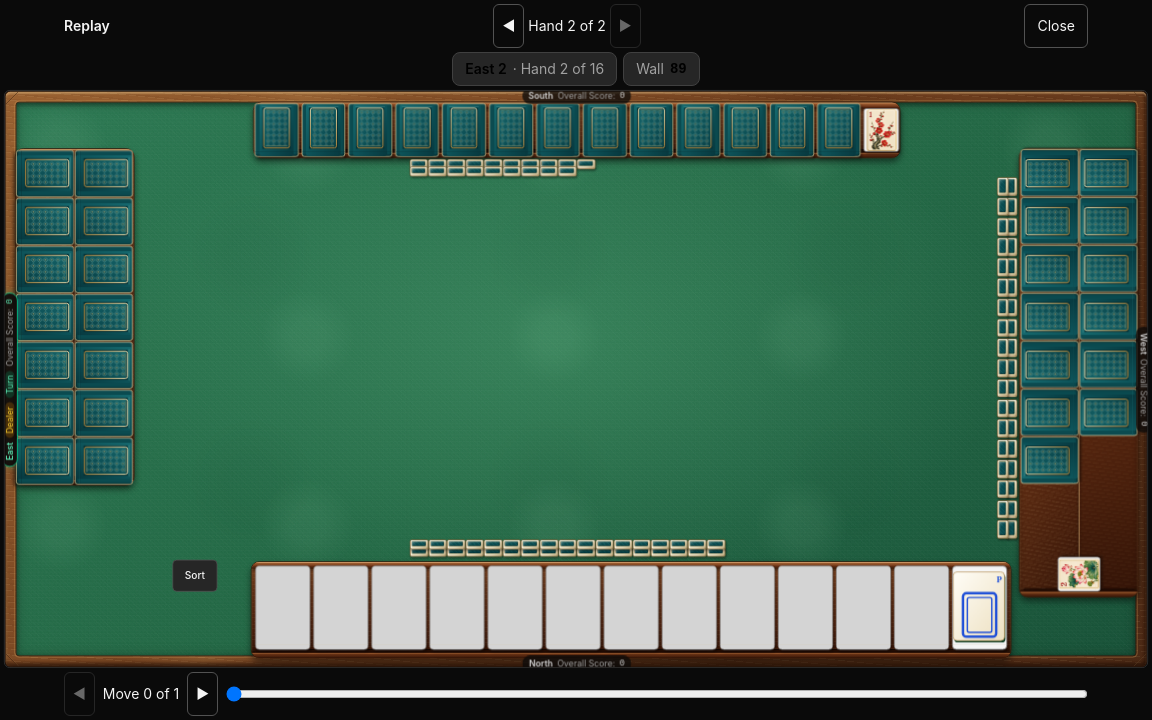
Test: ReplayView › switching hands resets the move scrubber to 0
Click the button named "Next move" at (203, 694), box [187, 672, 218, 716]
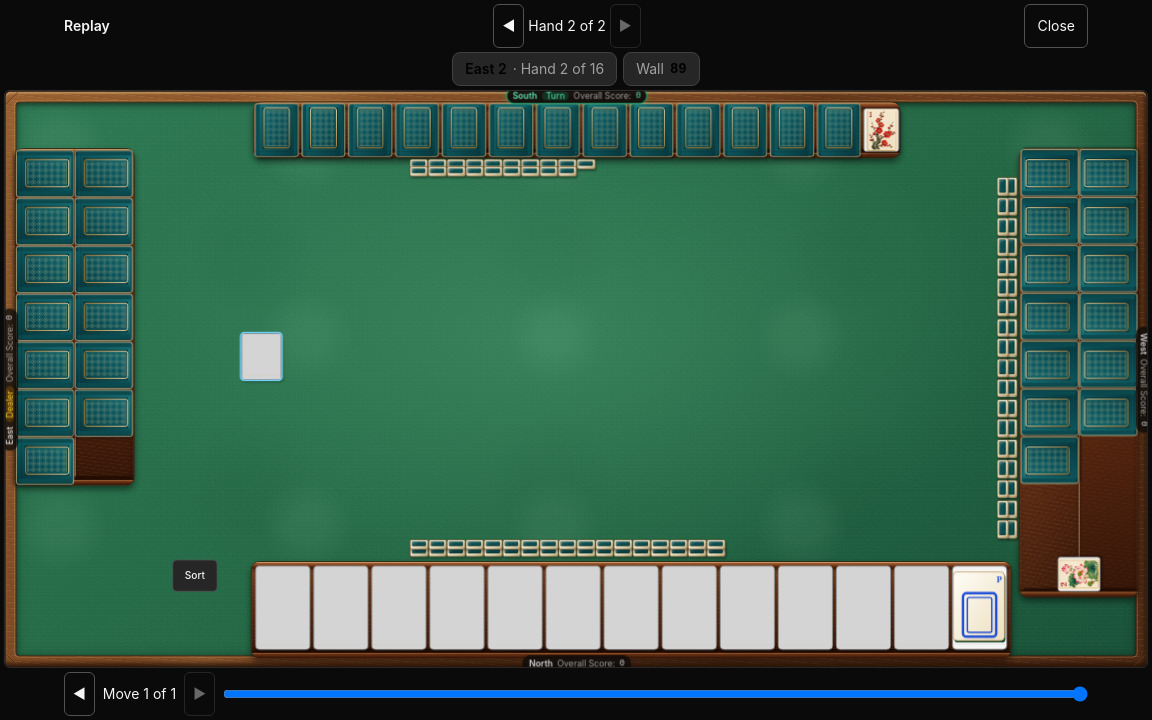
Expected: the text with test id "replay-move-indicator" reads "Move 1 of 1", [103, 684, 176, 704]
Click the button named "Prev hand" at (509, 26), box [493, 4, 524, 48]
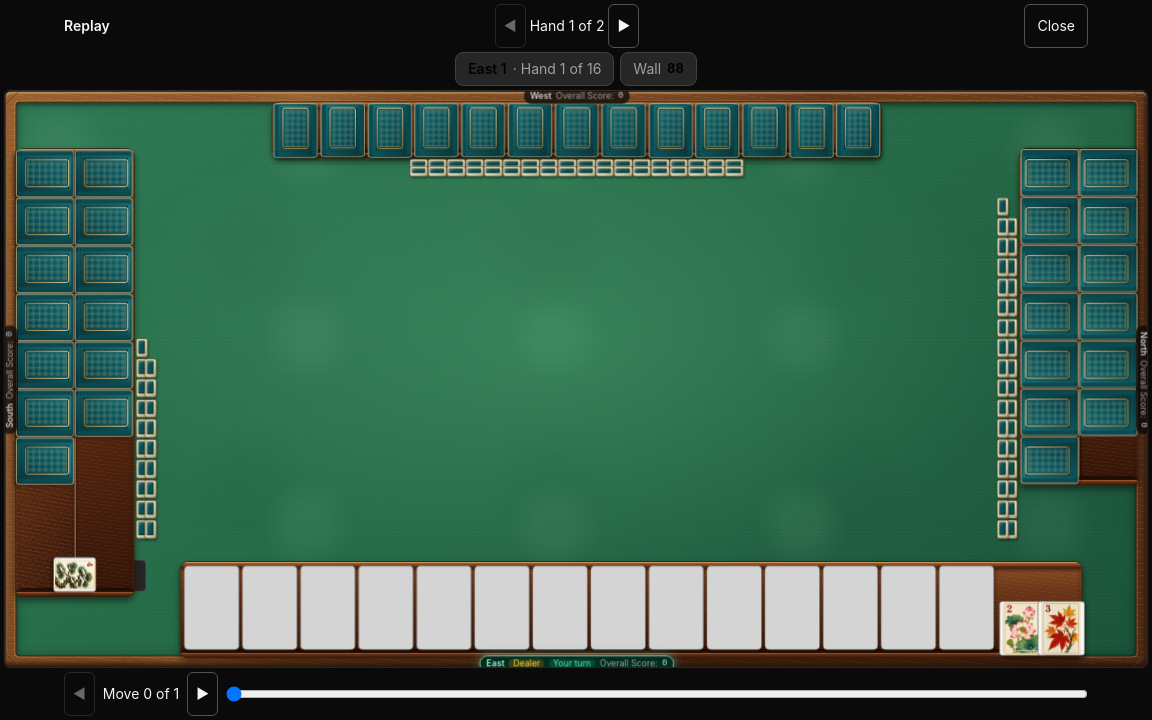
Expected: the text with test id "replay-hand-indicator" reads "Hand 1 of 2", [530, 16, 604, 36]
Expected: the text with test id "replay-move-indicator" reads "Move 0 of 1", [103, 684, 179, 704]
